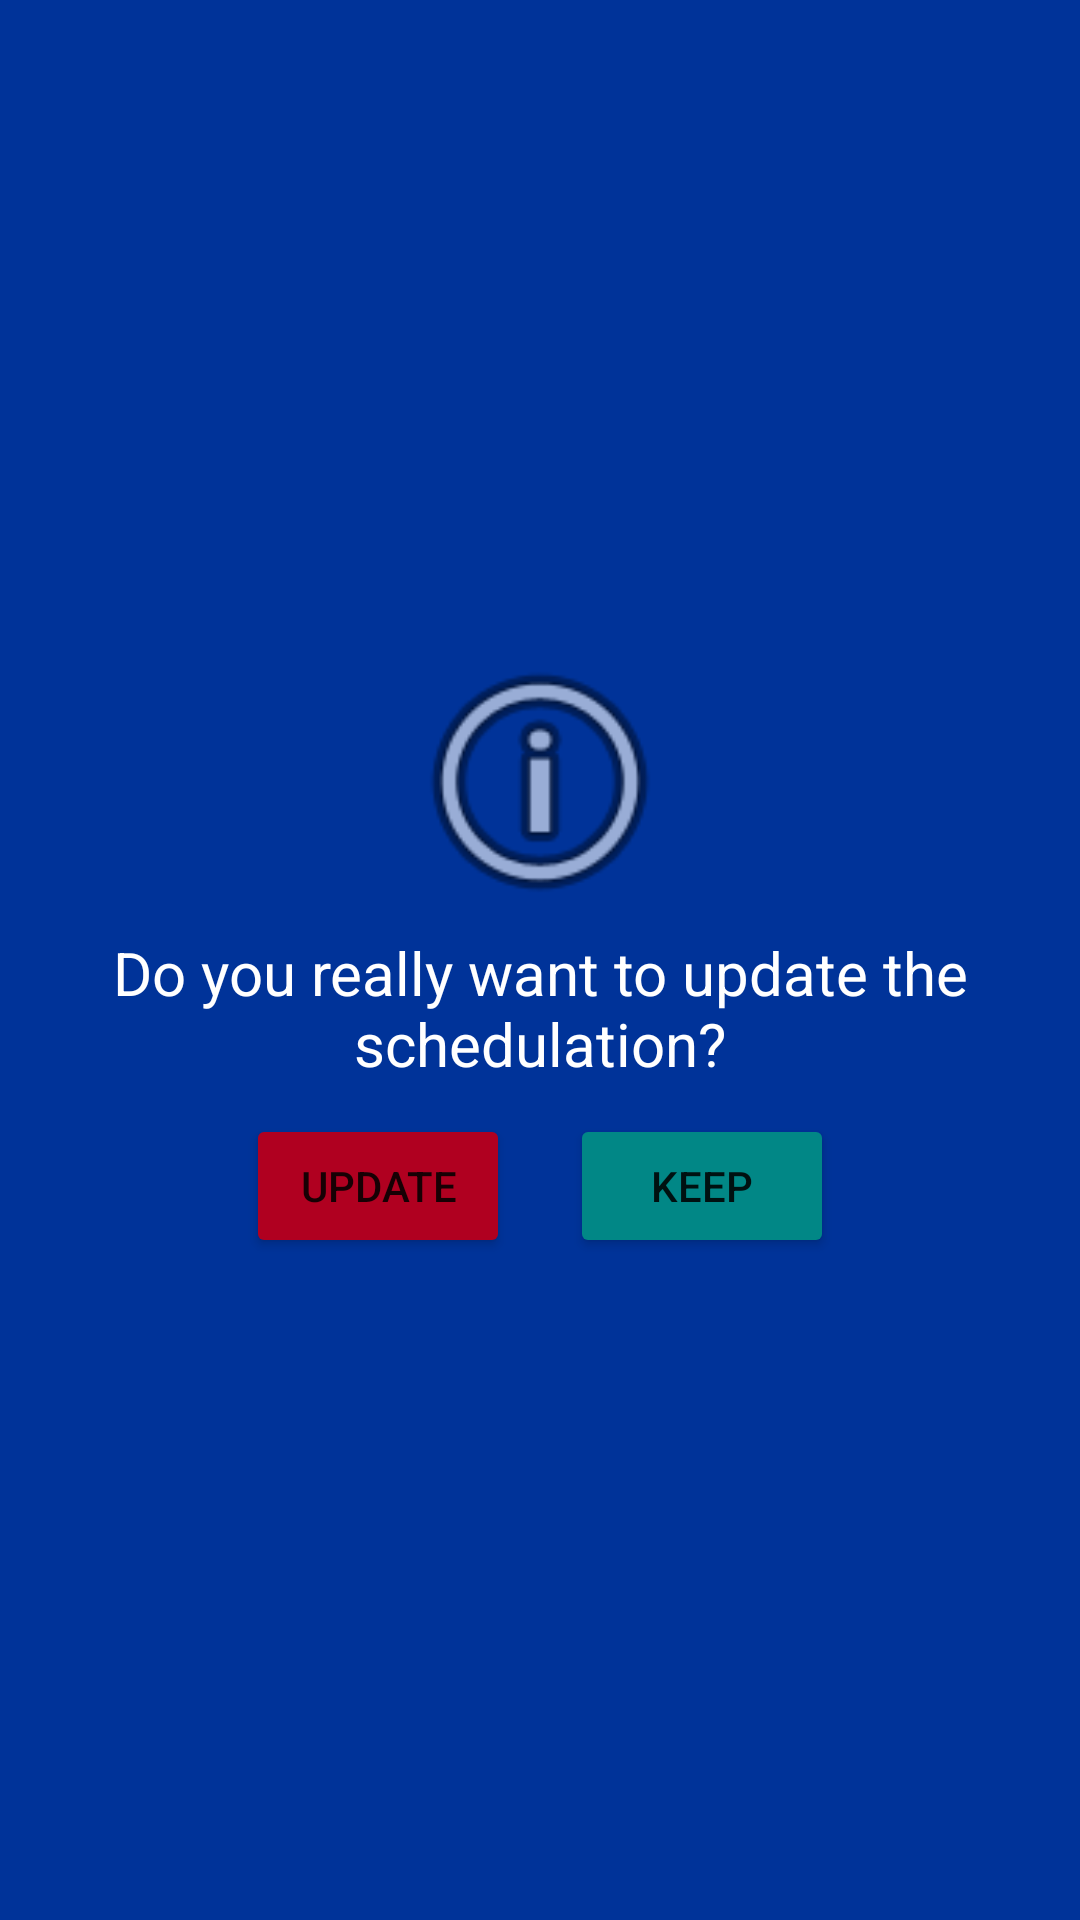

Locate icon controls on the screen. Image size 1080x1920, boxes as (x1, y1, x2, y2).
info details: (433, 675, 647, 889)
